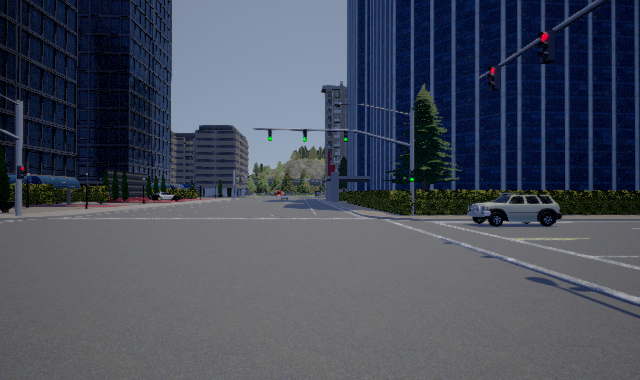traffic_light: (538, 30, 555, 64), (488, 65, 501, 91), (17, 166, 26, 179), (409, 170, 414, 182), (303, 129, 307, 142), (344, 130, 348, 142), (268, 129, 272, 141)
vehicle: (467, 192, 562, 227)
